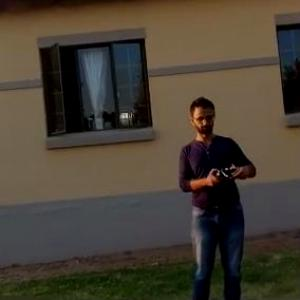follow: (174, 93, 268, 299)
